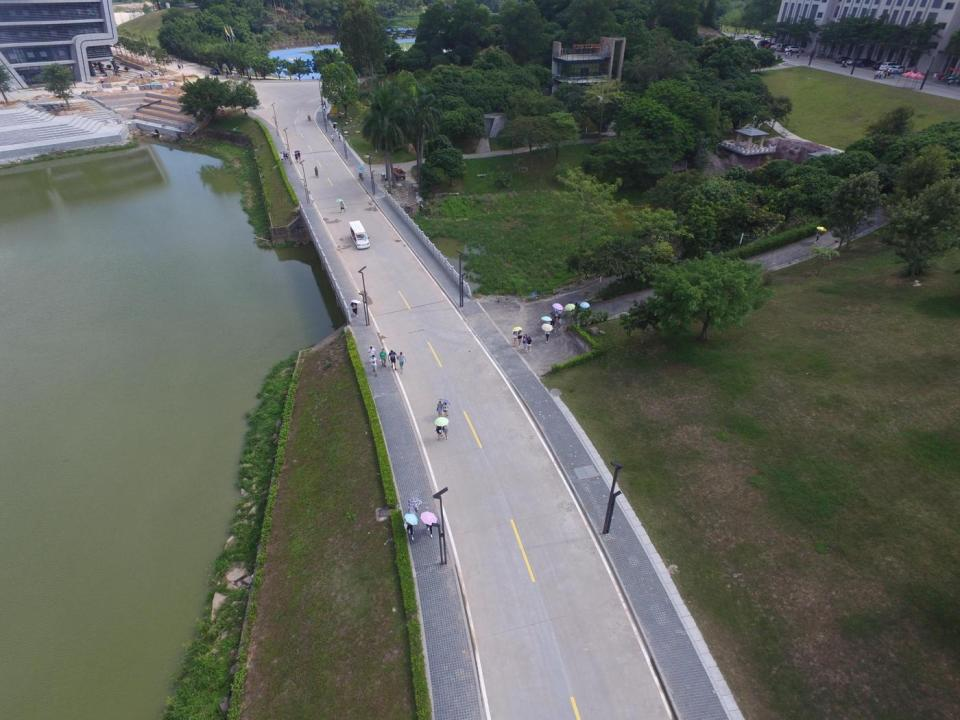van: (348, 220, 371, 249)
